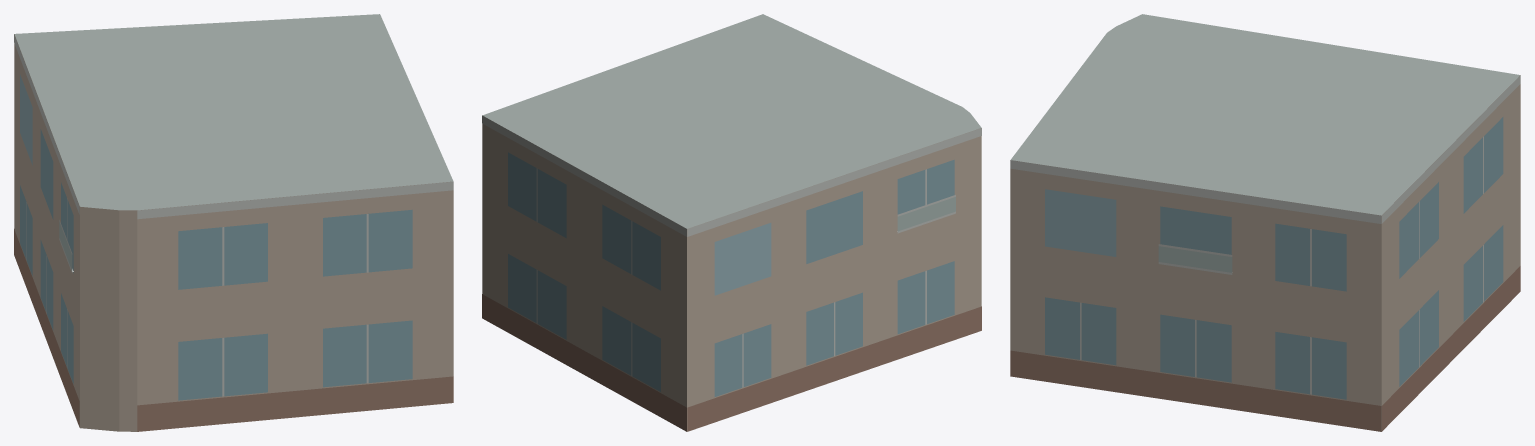
File: survey-upis-32850249.glb
3 views of the same model, side by side, from view 1: azimuth 30°, elevation 25°; view 2: azimuth 150°, elevation 25°; view 3: azimuth 270°, elevation 25° (orthographic). The views are drawn at different scales.
Visible parts, largest first — view 1: survey-upis-32850249.tmp; view 2: survey-upis-32850249.tmp; view 3: survey-upis-32850249.tmp.
Boxes of the visible parts, left/top/right/bottom form: survey-upis-32850249.tmp: left=14, top=14, right=453, bottom=431; survey-upis-32850249.tmp: left=482, top=14, right=981, bottom=431; survey-upis-32850249.tmp: left=1010, top=14, right=1520, bottom=431.
Bounding box in the file's own units: 12.19 × 6.1 × 13.05.
